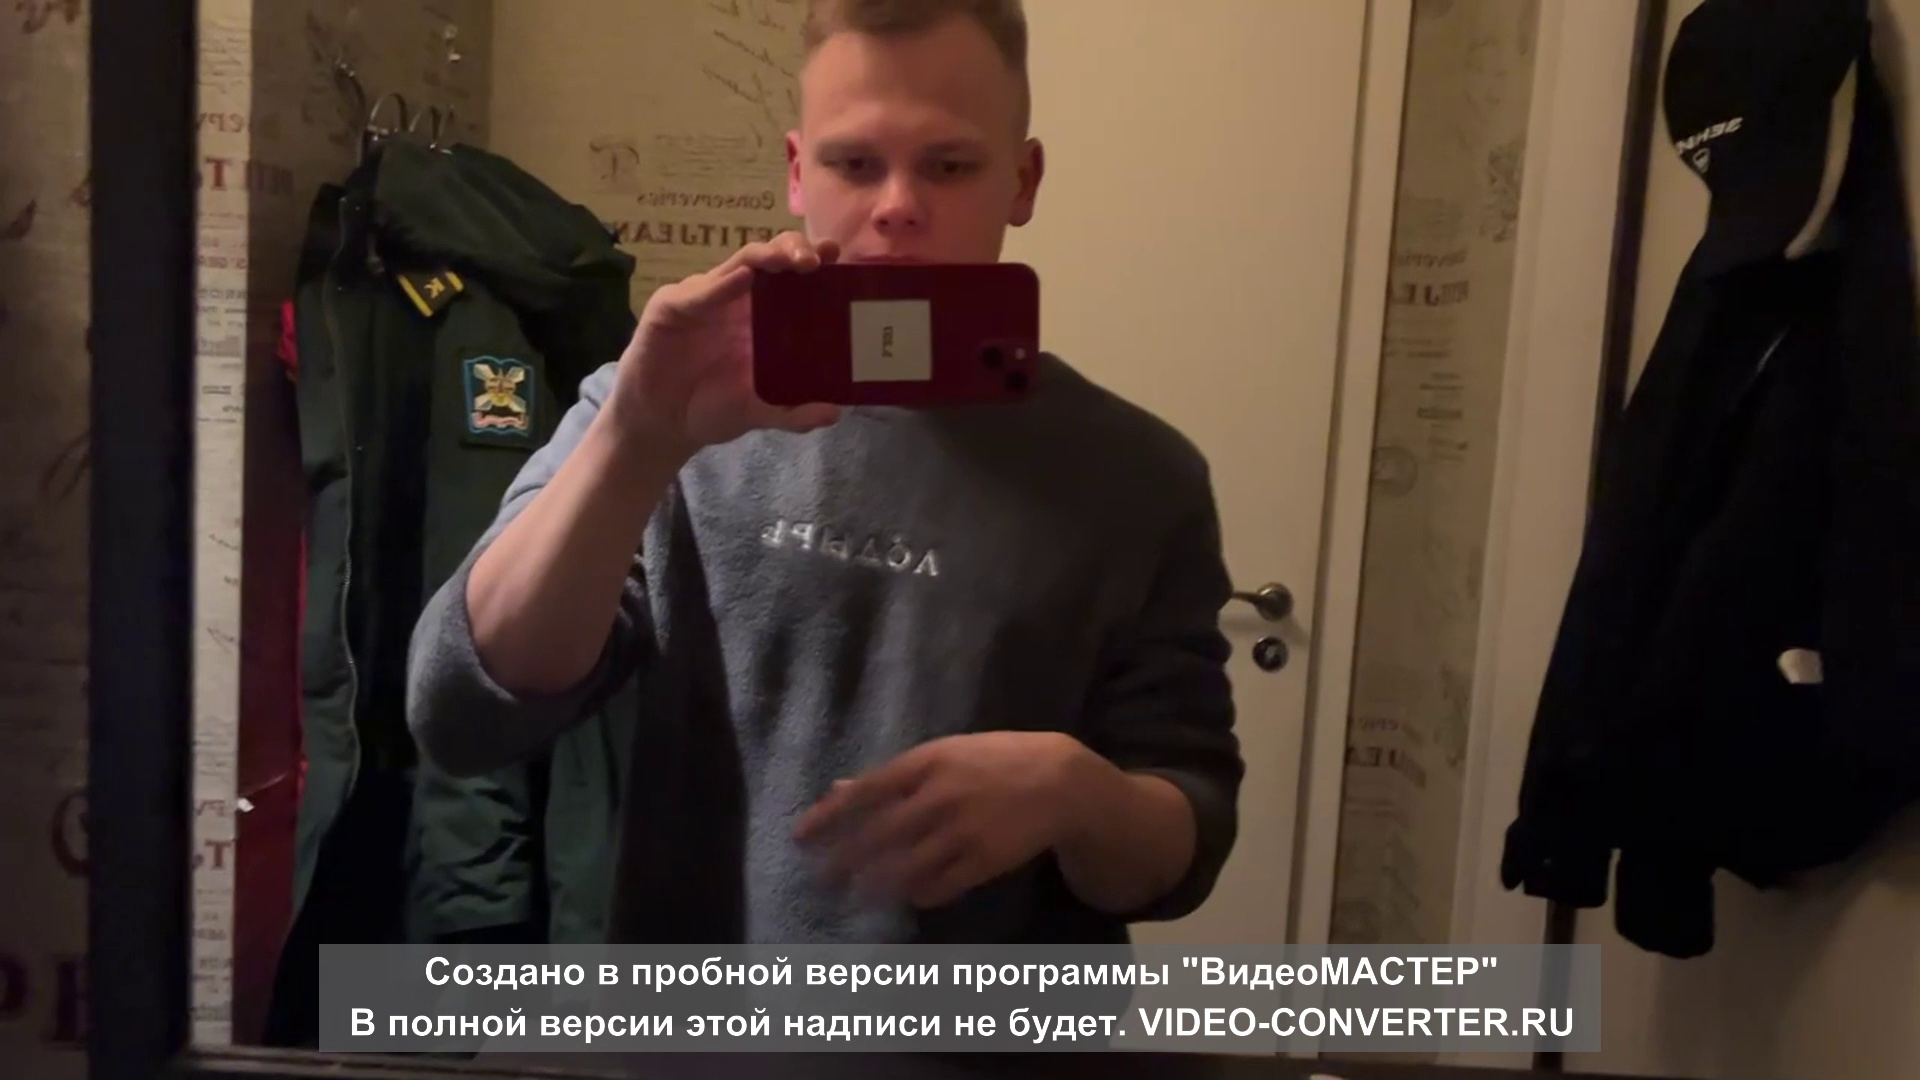Кисть: (794, 731, 1076, 914)
